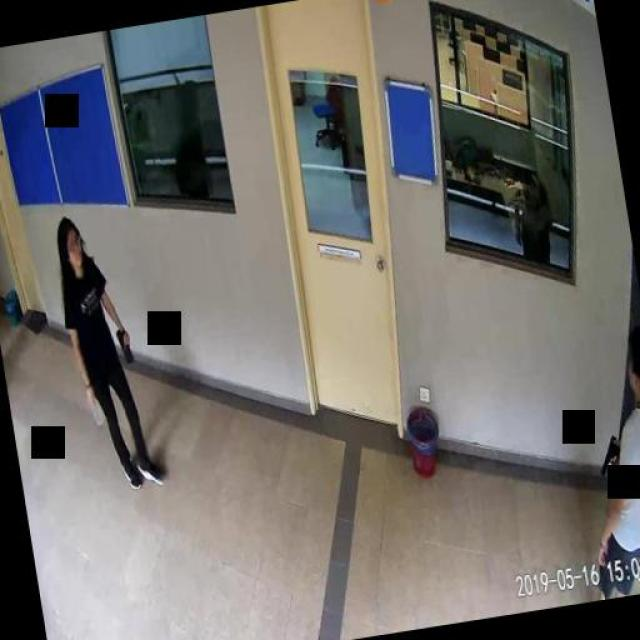gun: (592, 432, 622, 473)
